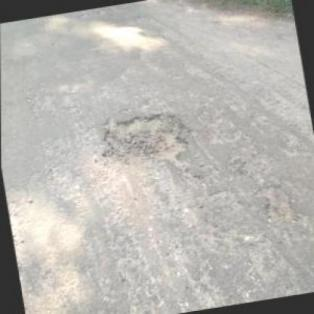Hueco: (94, 104, 192, 178), (258, 183, 295, 224)
